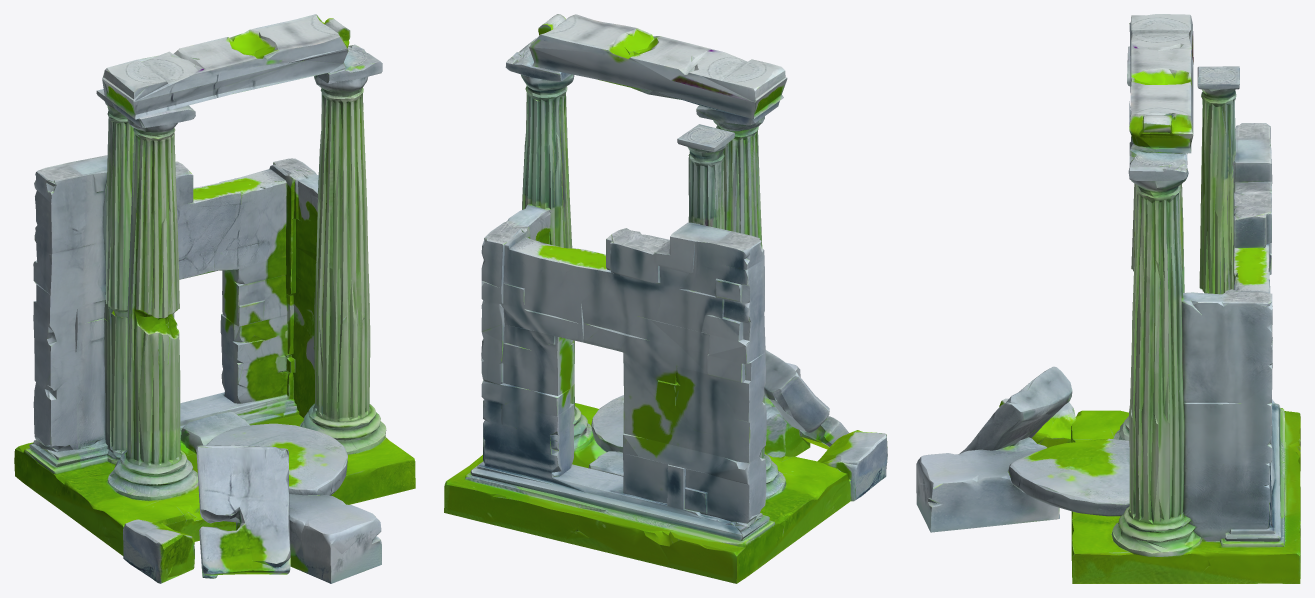
The model's file is ruins.glb.
The picture shows the model from 3 angles, left to right: view 1: azimuth 30°, elevation 25°; view 2: azimuth 150°, elevation 25°; view 3: azimuth 270°, elevation 25°; orthographic projection.
Size of the model in its own units: 1.35 by 1.9 by 1.47.
Materials: 1 (1 with a texture image).
